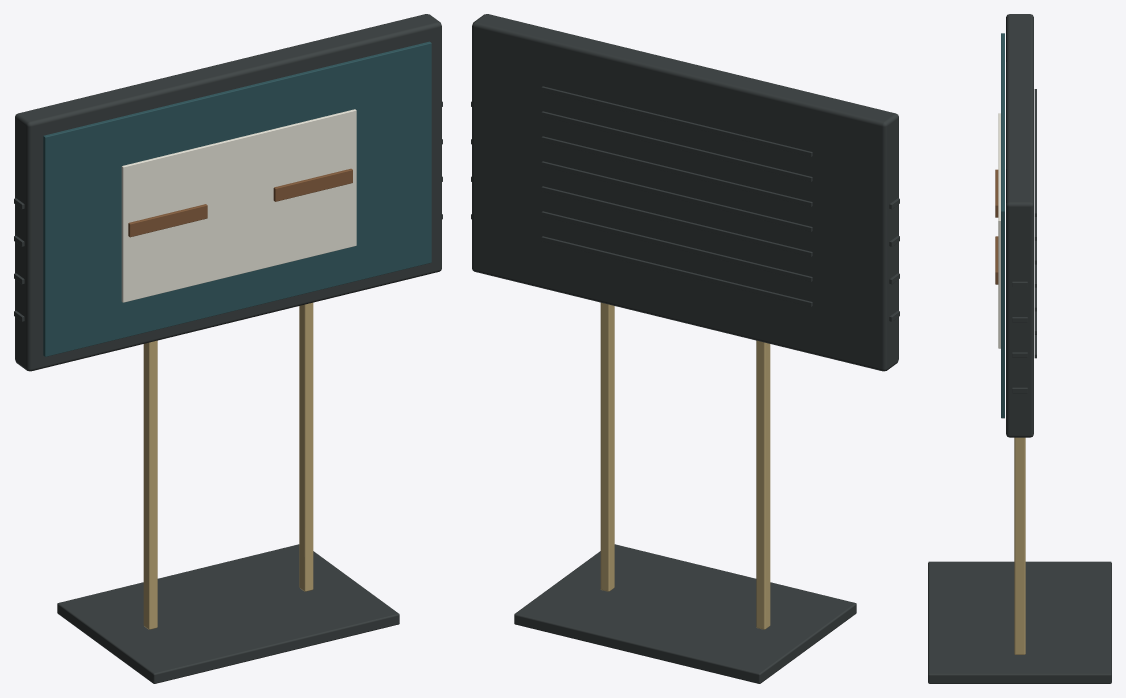
Rendered from tribunal_tela_provas.glb.
3 renders of one model, left to right at view 1: azimuth 30°, elevation 25°; view 2: azimuth 150°, elevation 25°; view 3: azimuth 270°, elevation 25°, orthographic. The views are drawn at different scales.
Parts seen in each view (by area): view 1: city-courthouse-and-records-office-evidence-presentation-scr (×5); view 2: city-courthouse-and-records-office-evidence-presentation-scr (×2); view 3: city-courthouse-and-records-office-evidence-presentation-scr (×5).
Part boxes in pixels (left/top/right/bottom): city-courthouse-and-records-office-evidence-presentation-scr (×5): left=14, top=14, right=442, bottom=683; city-courthouse-and-records-office-evidence-presentation-scr (×2): left=471, top=14, right=899, bottom=683; city-courthouse-and-records-office-evidence-presentation-scr (×5): left=928, top=14, right=1111, bottom=683.
Bounding box in the file's own units: 1.62 × 2.03 × 0.6501.
